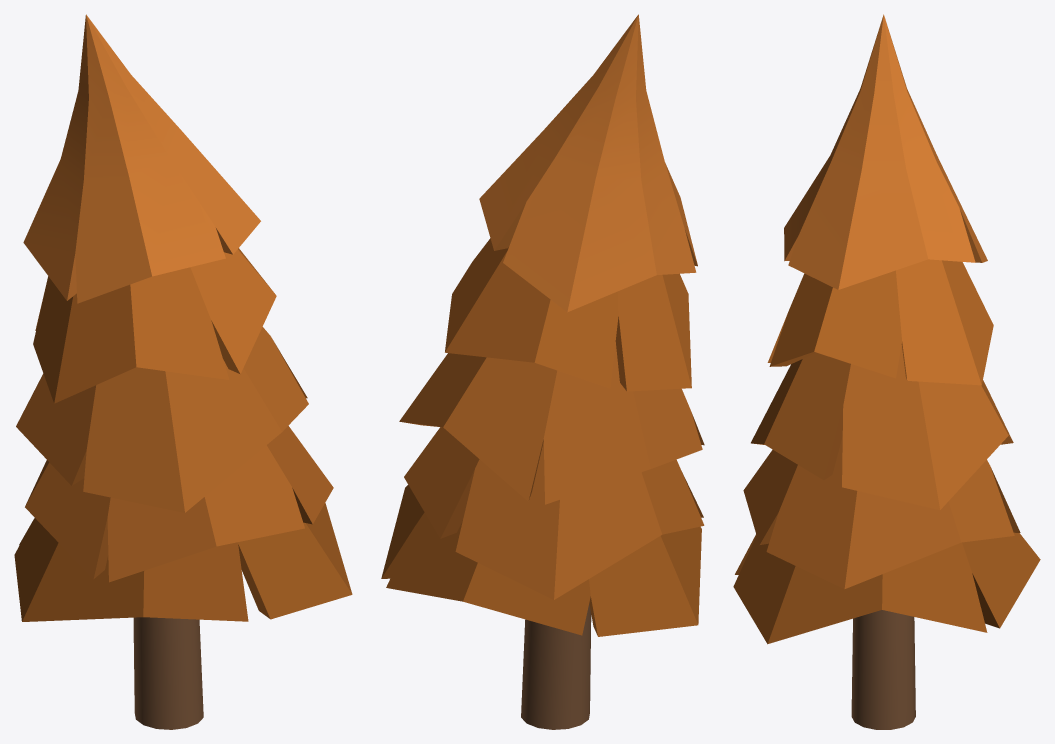
The model's file is Spruce_Orange_Thin_2.fbx.
The picture shows the model from 3 angles, left to right: view 1: azimuth 30°, elevation 25°; view 2: azimuth 150°, elevation 25°; view 3: azimuth 270°, elevation 25°; orthographic projection. The views are drawn at different scales.
Visible parts, largest first — view 1: Cylinder.417, Cylinder.416, Cylinder.415, Cylinder.413, Cylinder.414, Cylinder.412; view 2: Cylinder.417, Cylinder.416, Cylinder.414, Cylinder.415, Cylinder.413, Cylinder.412; view 3: Cylinder.417, Cylinder.416, Cylinder.414, Cylinder.415, Cylinder.413, Cylinder.412.
Boxes of the visible parts, left/top/right/bottom form: Cylinder.417: left=23, top=14, right=260, bottom=303; Cylinder.416: left=16, top=327, right=308, bottom=512; Cylinder.415: left=33, top=248, right=276, bottom=403; Cylinder.413: left=14, top=503, right=352, bottom=621; Cylinder.414: left=25, top=426, right=333, bottom=582; Cylinder.412: left=133, top=617, right=203, bottom=729; Cylinder.417: left=479, top=14, right=697, bottom=312; Cylinder.416: left=399, top=342, right=704, bottom=504; Cylinder.414: left=404, top=427, right=704, bottom=599; Cylinder.415: left=445, top=238, right=691, bottom=391; Cylinder.413: left=381, top=485, right=701, bottom=636; Cylinder.412: left=521, top=603, right=591, bottom=729; Cylinder.417: left=784, top=14, right=987, bottom=289; Cylinder.416: left=751, top=345, right=1013, bottom=509; Cylinder.414: left=743, top=436, right=1020, bottom=589; Cylinder.415: left=767, top=259, right=993, bottom=385; Cylinder.413: left=733, top=532, right=1040, bottom=644; Cylinder.412: left=851, top=610, right=915, bottom=729.
Size of the model in its own units: 244 by 568 by 238.
